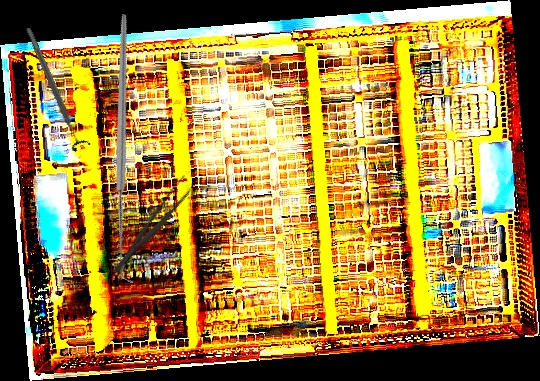Dressing Forceps: (107, 172, 198, 280)
Fixation Ring: (18, 23, 92, 154)
Hook Surgical: (6, 13, 249, 284)
